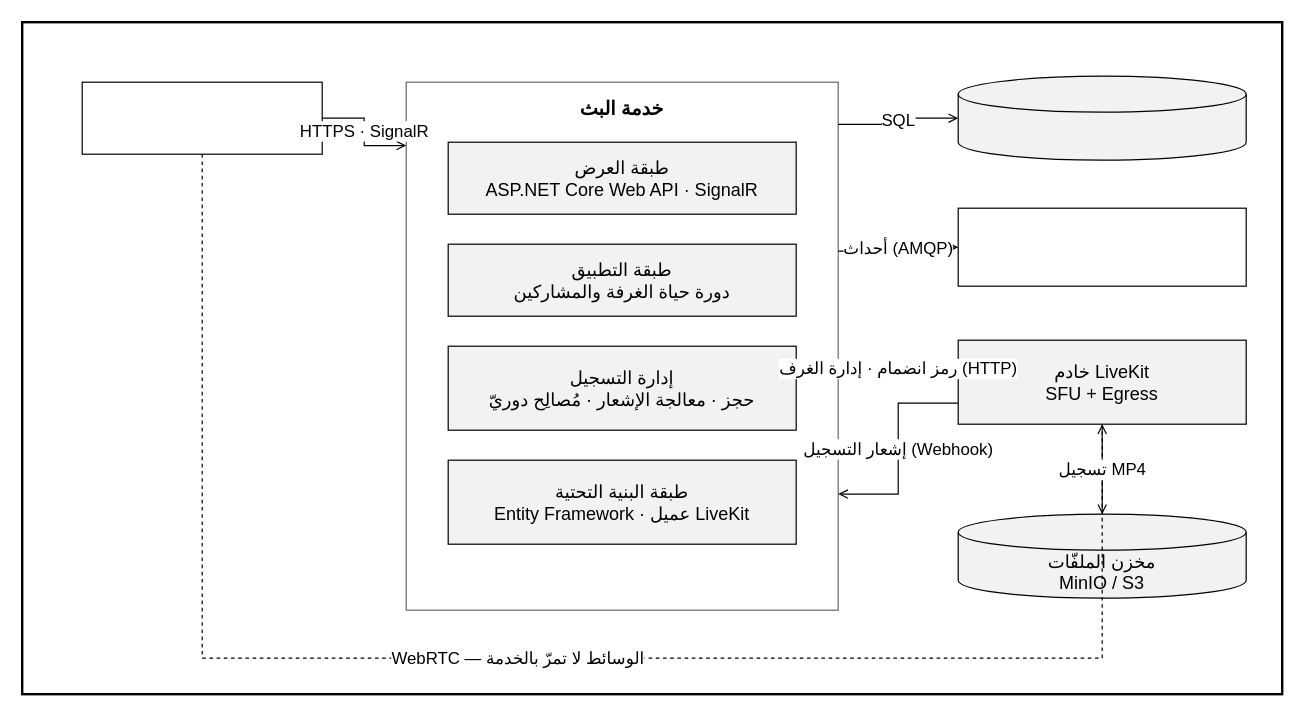
Image size: 1303x715. Some labels were removed from this diagram. Here are the shapes that lost their labels. From the top down, the box of each, then its label:
(81, 81, 322, 154): المتصفّح
(957, 75, 1246, 160): قاعدة بيانات الخدمة PostgreSQL
(957, 207, 1246, 286): ناقل الرسائل RabbitMQ
